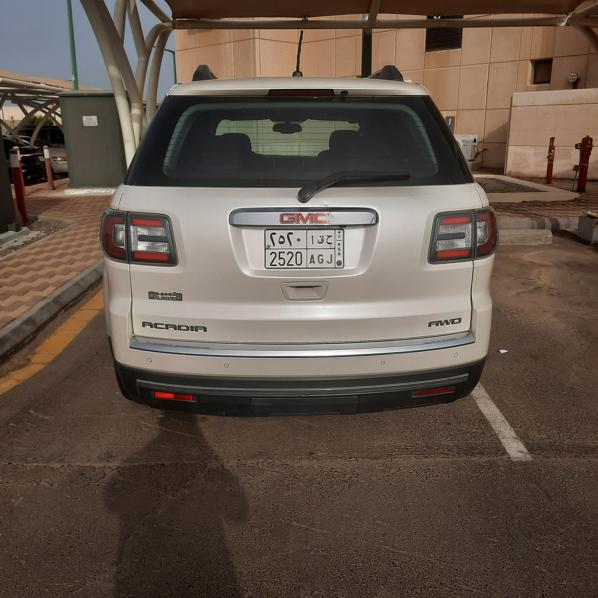numberplate: (263, 228, 343, 267)
